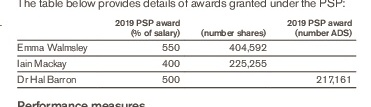table: (0, 0, 371, 107)
